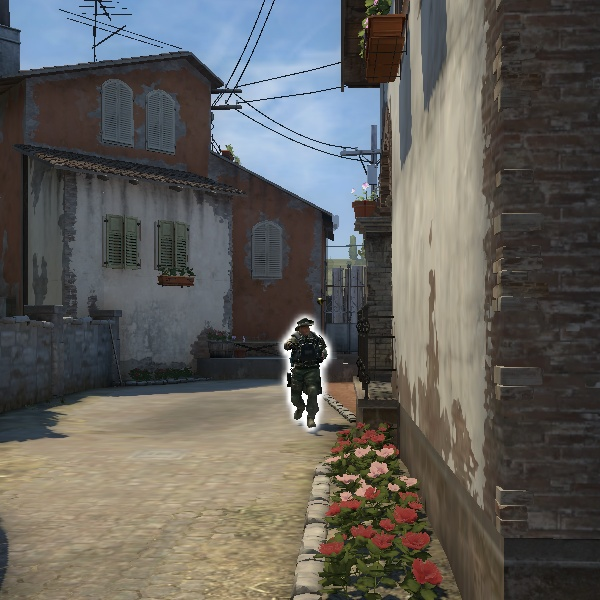ct_body: (273, 314, 333, 427)
ct_head: (290, 314, 317, 341)
